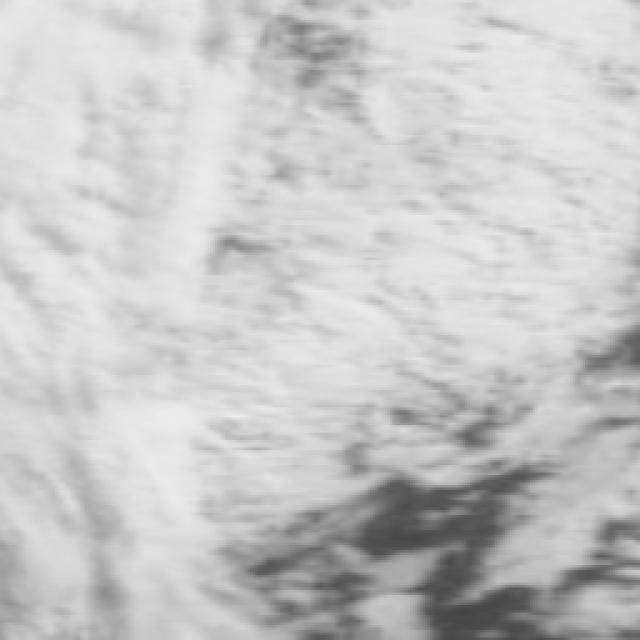CB: (407, 0, 639, 174), (6, 219, 187, 439), (324, 199, 597, 336), (2, 0, 185, 202), (7, 452, 193, 640), (197, 334, 406, 486)
